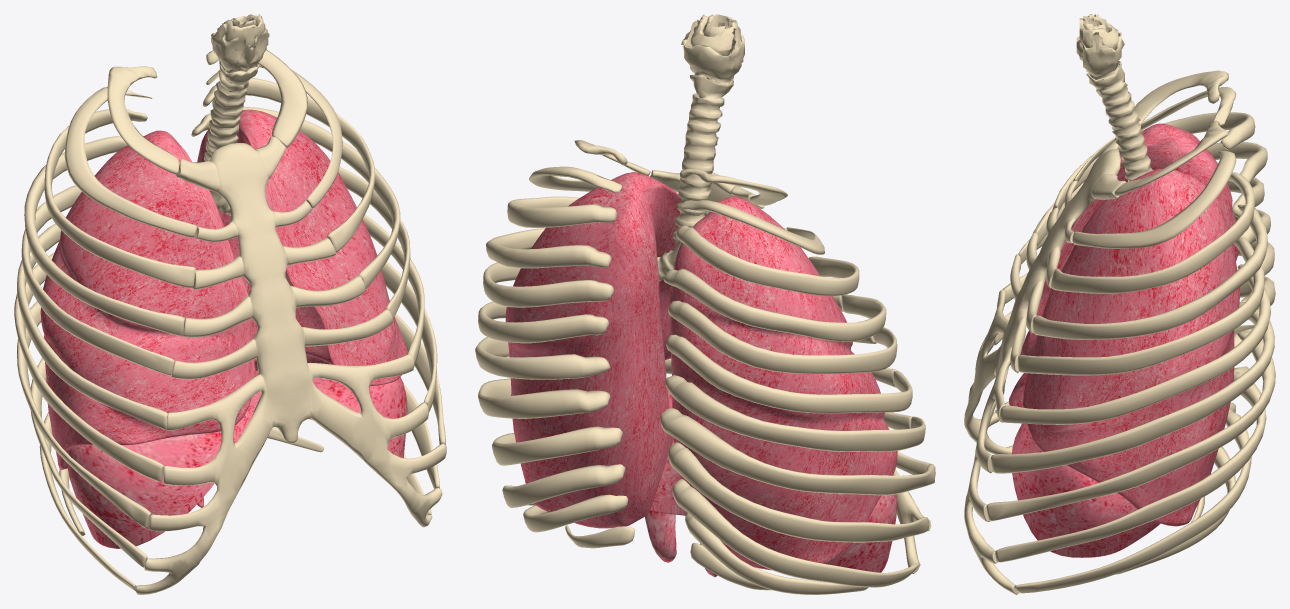
3 views of the same model, side by side, from view 1: azimuth 30°, elevation 25°; view 2: azimuth 150°, elevation 25°; view 3: azimuth 270°, elevation 25° (orthographic). The views are drawn at different scales.
Parts seen in each view (by area): view 1: LUNG_lobe_02_01, skeleton_03, object 8, object 9, Diaphragm_2, object 6, object 7, object 2, skeleton_02; view 2: LUNG_lobe_02_01, object 8, object 7, object 9, object 6, object 2, skeleton_02, Diaphragm_2, skeleton_03; view 3: LUNG_lobe_02_01, object 7, object 6, skeleton_03, Diaphragm_2, object 9, object 2, object 8, skeleton_02.
Part boxes in pixels (<box>): LUNG_lobe_02_01: <box>40,109,407,469</box>; skeleton_03: <box>135,136,446,594</box>; object 8: <box>14,185,174,591</box>; object 9: <box>24,66,197,336</box>; Diaphragm_2: <box>67,370,407,548</box>; object 6: <box>191,49,400,288</box>; object 7: <box>338,167,445,514</box>; object 2: <box>204,14,269,215</box>; skeleton_02: <box>59,427,323,535</box>; LUNG_lobe_02_01: <box>505,172,897,570</box>; object 8: <box>659,300,934,587</box>; object 7: <box>475,262,625,507</box>; object 9: <box>663,169,886,341</box>; object 6: <box>486,140,650,268</box>; object 2: <box>657,14,744,281</box>; skeleton_02: <box>523,494,868,594</box>; Diaphragm_2: <box>644,389,897,577</box>; skeleton_03: <box>650,170,935,573</box>; LUNG_lobe_02_01: <box>1020,123,1239,526</box>; object 7: <box>986,237,1275,593</box>; object 6: <box>1032,120,1267,339</box>; skeleton_03: <box>964,139,1126,594</box>; Diaphragm_2: <box>1009,373,1160,557</box>; object 9: <box>1033,70,1267,245</box>; object 2: <box>1076,14,1152,181</box>; object 8: <box>994,177,1275,413</box>; skeleton_02: <box>1116,402,1236,574</box>.
Size of the model in its own units: 1.08 by 1.41 by 0.7863.
2 materials, 1 textured.
